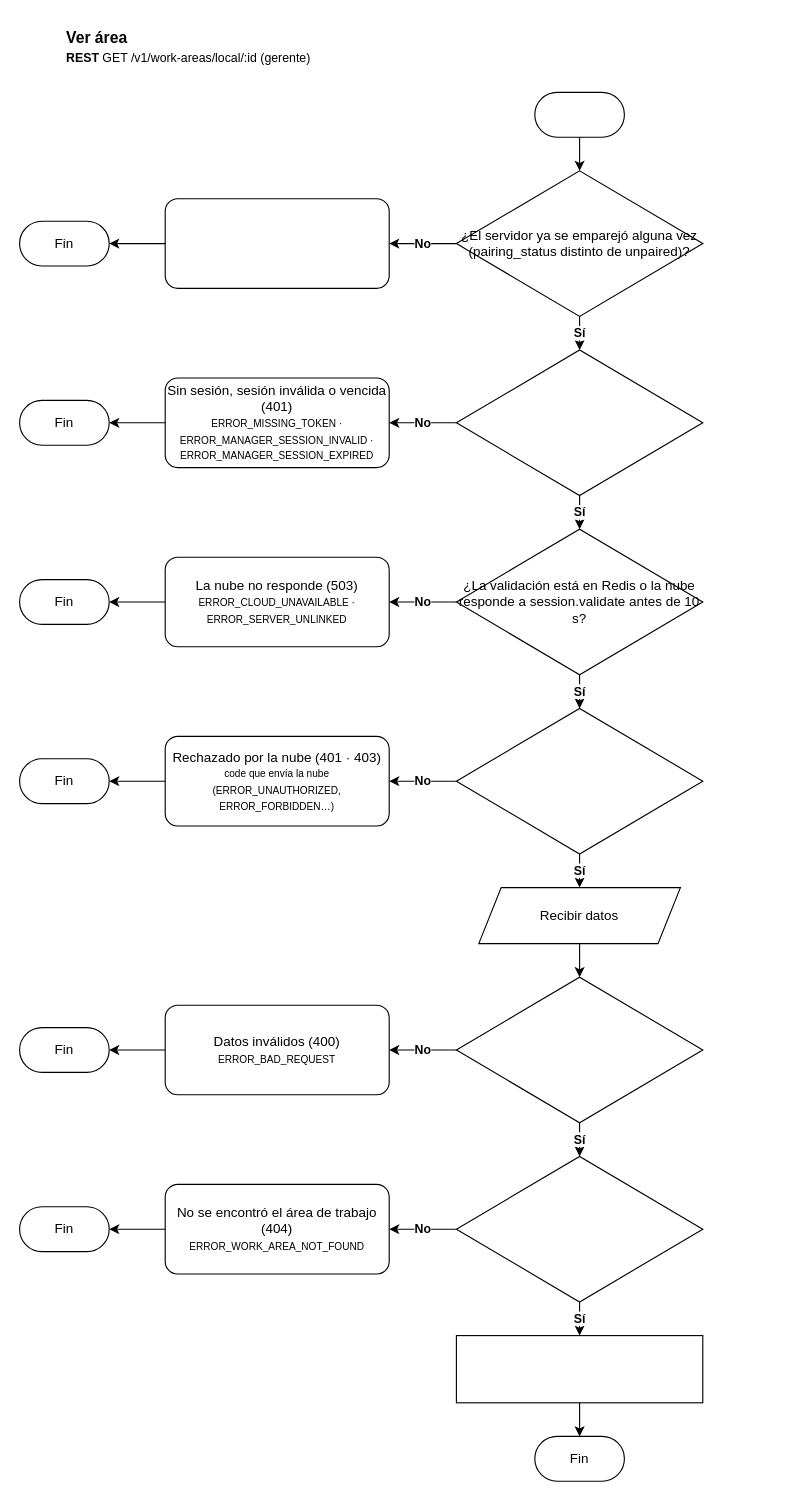
Some shapes in this 801 by 1501 pixel diagram are drawn without their labels. Each missing label, with the centre of its shape:
Inicio: the point at 579,114
Responder 200 con el mensaje WORK_AREA_RETRIEVED: the point at 579,1368
Servidor sin emparejar (409) ERROR_SERVER_NOT_PAIRED: the point at 276,243
¿Existe el área de trabajo?: the point at 579,1228
¿La nube acepta la sesión del gerente con este servidor?: the point at 579,780
¿Los datos son válidos?: the point at 579,1049
¿Trae una sesión de gerente válida (Bearer mss_..., sin 30 min de inactividad)?: the point at 579,422
